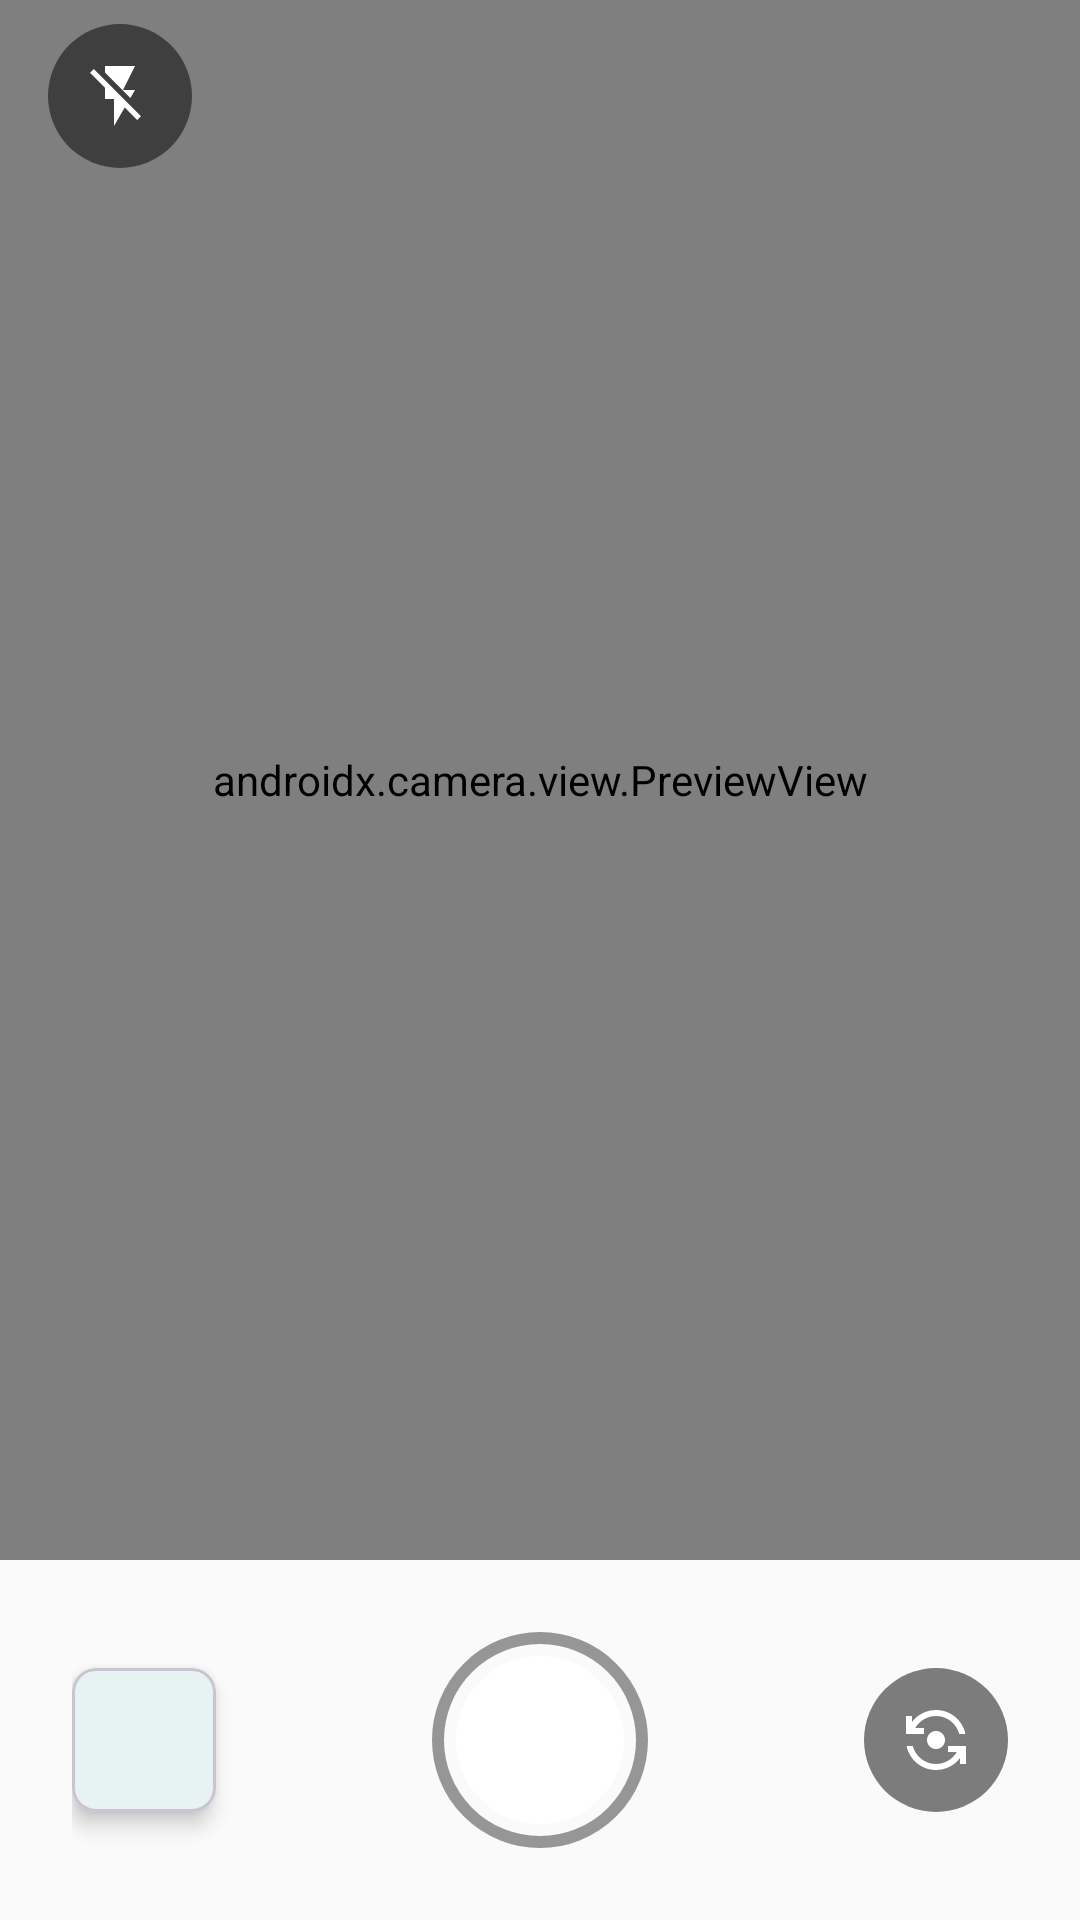

Screen size 1080 x 1920. Icon name, then its box in pixels as (x1, y1, x2, y2):
Переключить камеру: (864, 1668, 1008, 1812)
Режим вспышки: (48, 24, 192, 168)
